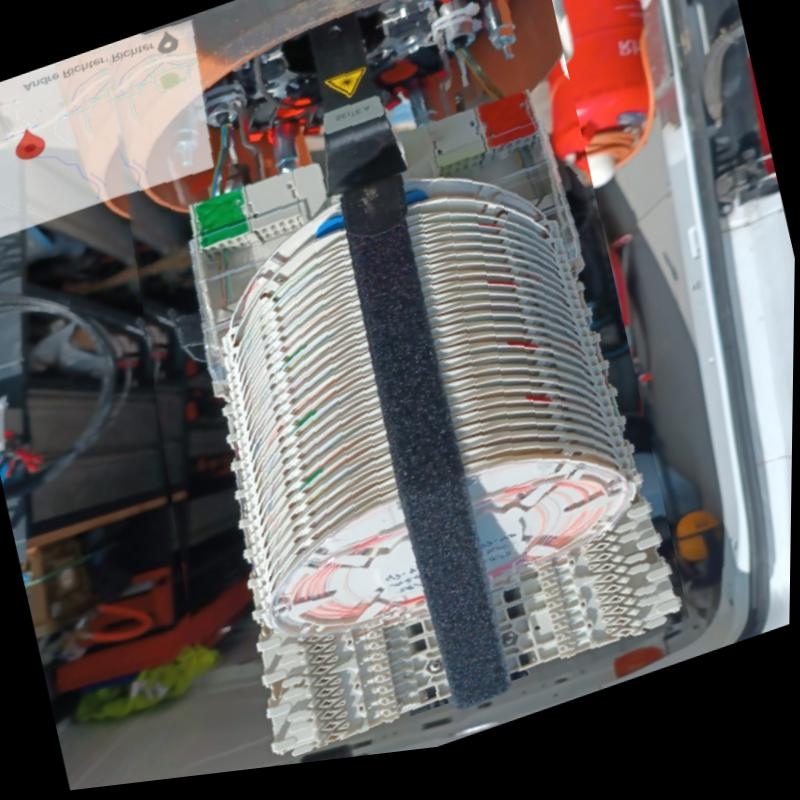NT-Muffen: (112, 0, 689, 767)
